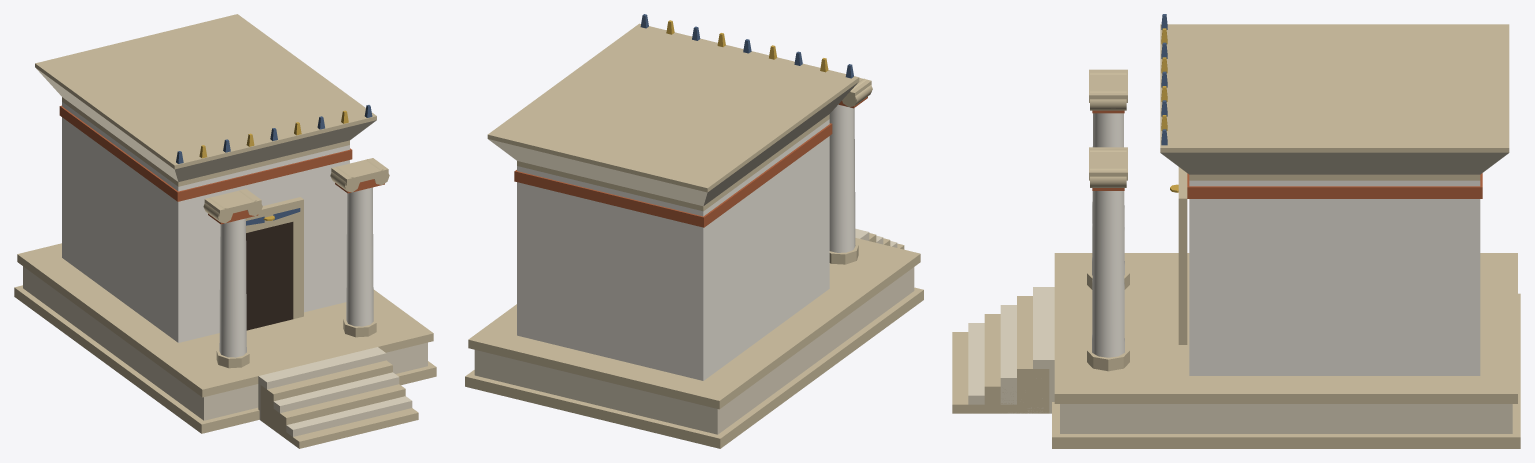
Rendered from punic_temple.glb.
3 renders of one model, left to right at view 1: azimuth 30°, elevation 25°; view 2: azimuth 150°, elevation 25°; view 3: azimuth 270°, elevation 25°, orthographic. The views are drawn at different scales.
Visible parts, largest first — view 1: punic_temple; view 2: punic_temple; view 3: punic_temple.
Part boxes in pixels (x1=…): punic_temple: x1=14, y1=14, x2=436, y2=448; punic_temple: x1=465, y1=14, x2=923, y2=448; punic_temple: x1=952, y1=14, x2=1520, y2=448.
Bounding box in the file's own units: 3.15 × 3.12 × 5.27.
